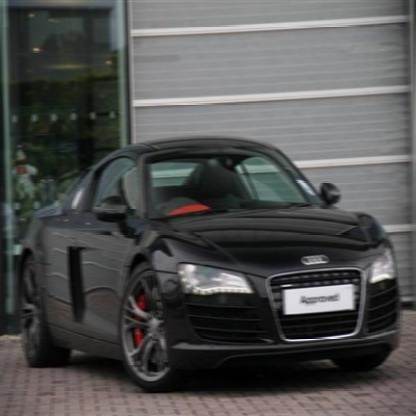Vehicle: (20, 140, 403, 396)
